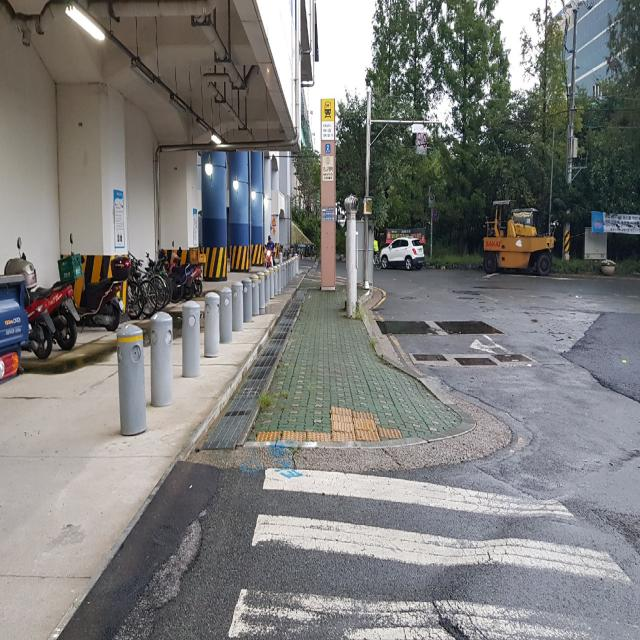횡단보도: (228, 468, 640, 640)
